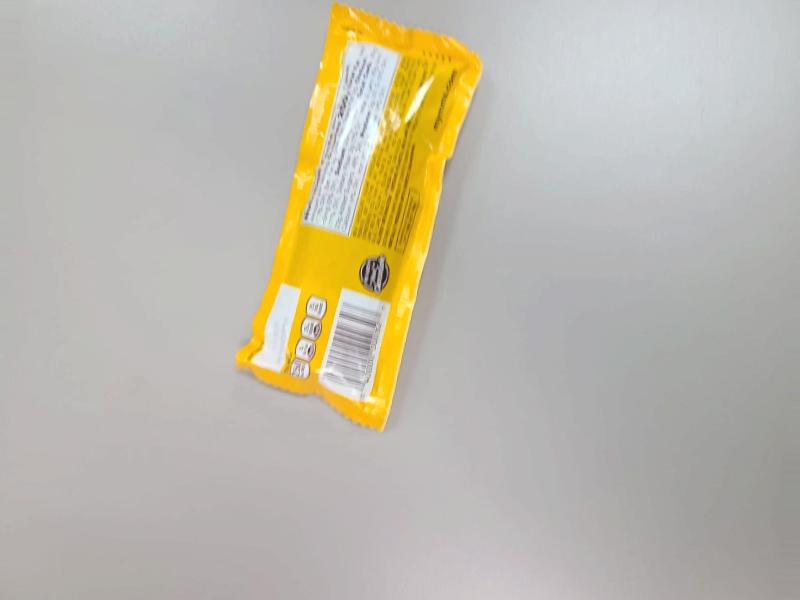m&m: (242, 0, 472, 428)
